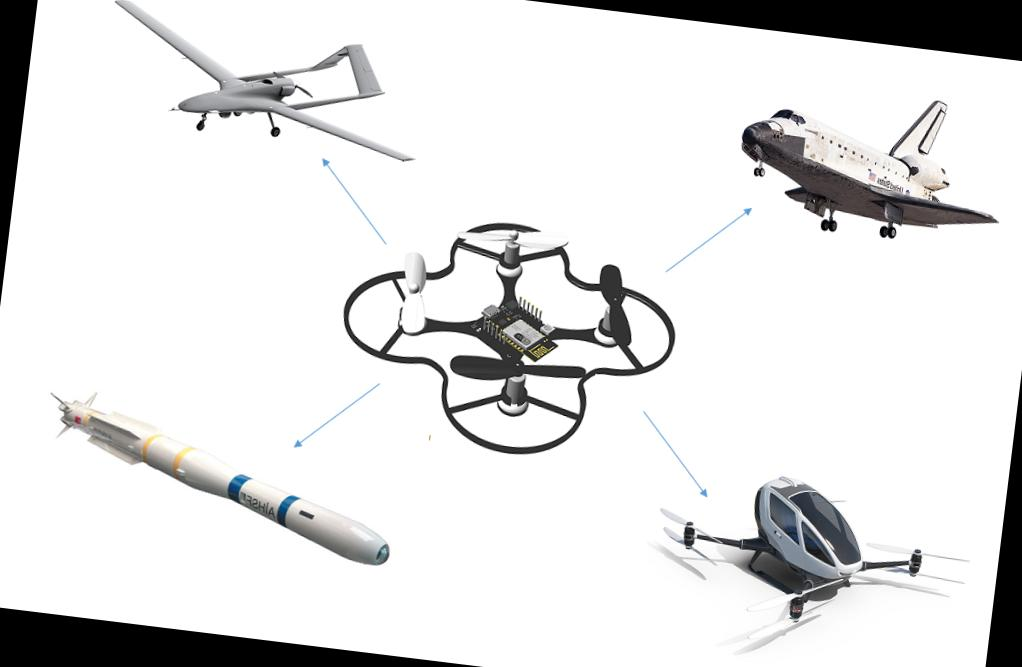drone: (306, 173, 708, 484), (642, 453, 981, 662)
